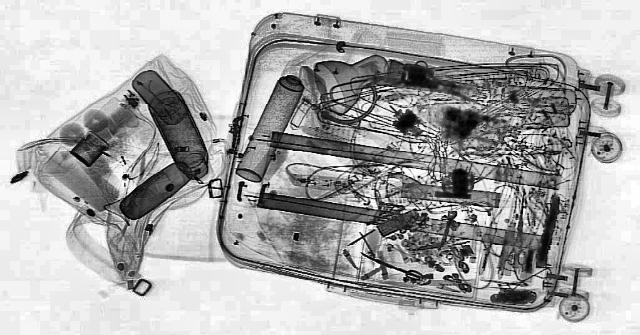Scissors: (352, 249, 426, 281)
